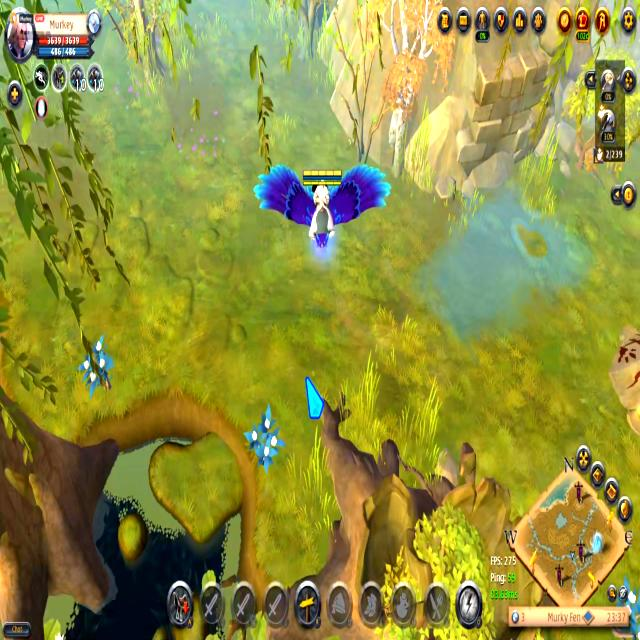hide: (240, 398, 292, 481), (72, 327, 118, 409)
red: (246, 148, 396, 266)
wisp caged: (360, 0, 458, 211)
